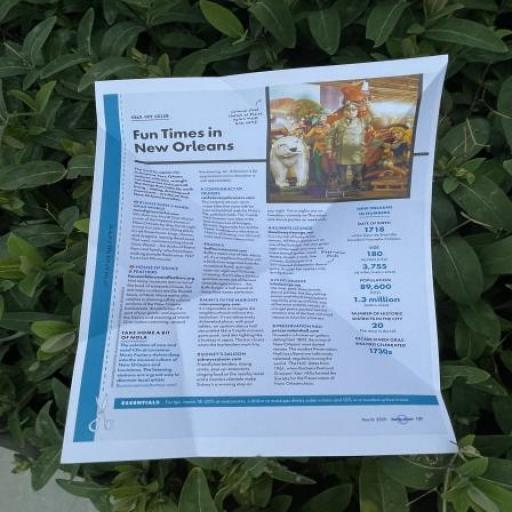paper: (40, 47, 482, 483)
